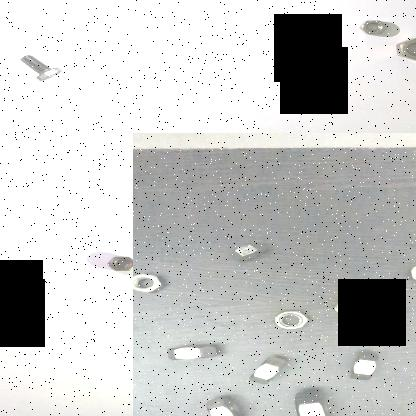Bolts: (15, 50, 65, 82)
NUTS: (244, 352, 290, 388), (346, 348, 388, 384), (293, 386, 339, 416), (159, 341, 223, 361), (332, 294, 376, 320), (228, 239, 271, 264), (266, 308, 314, 330), (204, 391, 246, 416), (133, 270, 169, 296), (103, 250, 133, 274), (358, 16, 390, 34), (394, 35, 416, 60)
